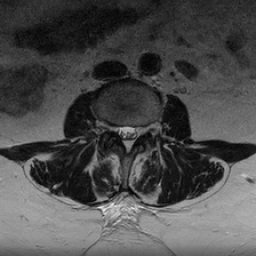CCS_normal: (123, 116, 131, 158)
LFS_normal: (141, 118, 148, 138)
LLS_normal: (131, 120, 140, 145)
RFS_stenosis: (108, 117, 116, 138)
RLS_normal: (116, 117, 123, 141)
